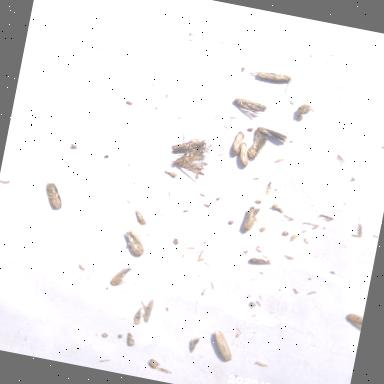pbw: (168, 142, 210, 176), (246, 64, 295, 92), (170, 132, 212, 162), (210, 330, 237, 362), (40, 182, 66, 212), (122, 228, 148, 256), (232, 96, 268, 116), (246, 134, 268, 161), (254, 125, 288, 142), (240, 206, 260, 234), (137, 298, 155, 324), (236, 142, 252, 166), (231, 130, 245, 156), (133, 210, 149, 226), (132, 306, 144, 326), (250, 256, 270, 266), (125, 331, 136, 347)
